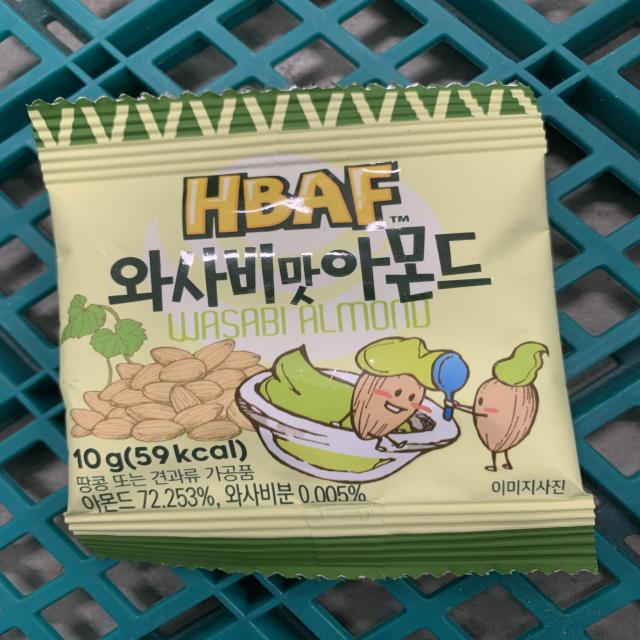object_name: (29, 94, 586, 573)
